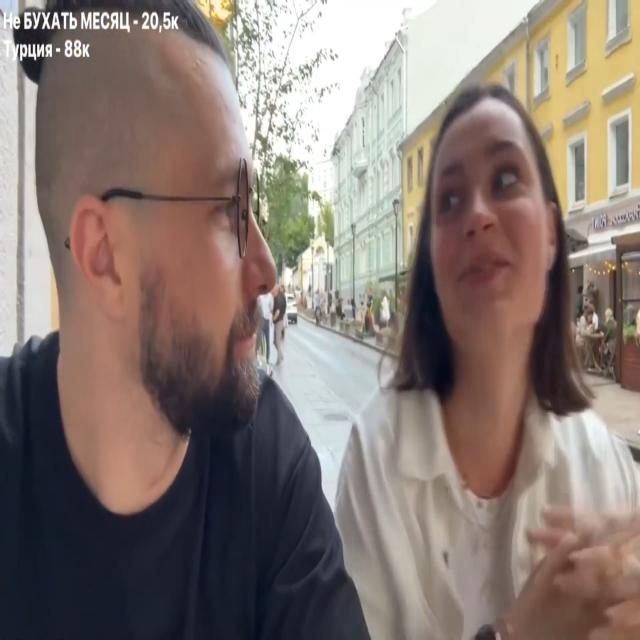Person: (0, 9, 411, 637), (273, 59, 640, 638), (262, 285, 290, 369)
